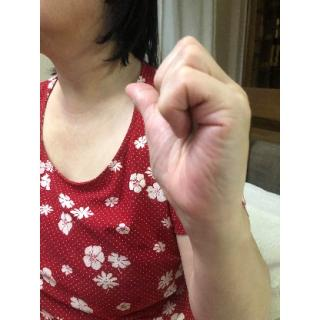WAW: (121, 33, 262, 238)
